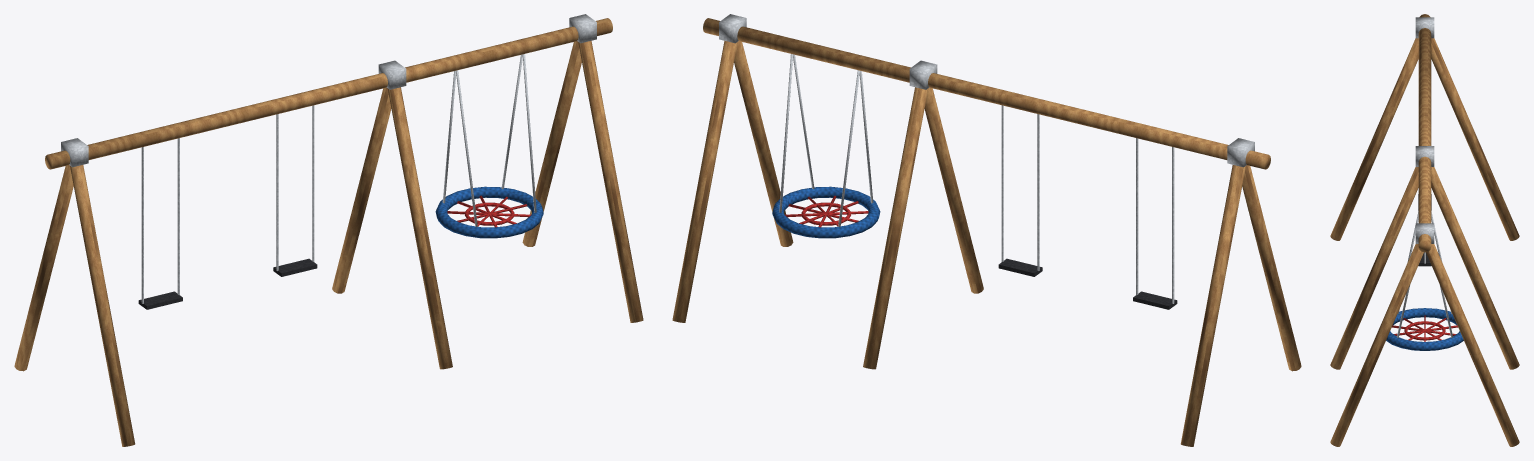
File: playground_swings.glb
The picture shows the model from 3 angles, left to right: view 1: azimuth 30°, elevation 25°; view 2: azimuth 150°, elevation 25°; view 3: azimuth 270°, elevation 25°; orthographic projection. The views are drawn at different scales.
Parts seen in each view (by area): view 1: Swings_frame_wood, Swing_Nest, Swings_frame_galv, Swing_Right, Swing_Left; view 2: Swings_frame_wood, Swing_Nest, Swings_frame_galv, Swing_Right, Swing_Left; view 3: Swings_frame_wood, Swing_Nest, Swings_frame_galv.
Part boxes in pixels (left/top/right/bottom): Swings_frame_wood: left=14, top=18, right=643, bottom=446; Swing_Nest: left=435, top=54, right=543, bottom=238; Swings_frame_galv: left=61, top=14, right=596, bottom=167; Swing_Right: left=273, top=105, right=317, bottom=276; Swing_Left: left=138, top=138, right=182, bottom=309; Swings_frame_wood: left=672, top=18, right=1301, bottom=446; Swing_Nest: left=772, top=54, right=880, bottom=238; Swings_frame_galv: left=719, top=14, right=1254, bottom=167; Swing_Right: left=998, top=105, right=1042, bottom=276; Swing_Left: left=1133, top=138, right=1177, bottom=309; Swings_frame_wood: left=1330, top=14, right=1519, bottom=446; Swing_Nest: left=1386, top=211, right=1463, bottom=350; Swings_frame_galv: left=1415, top=17, right=1434, bottom=243.
Size of the model in its own units: 7.5 by 3.38 by 2.65.
Materials: 5 (5 with a texture image).
